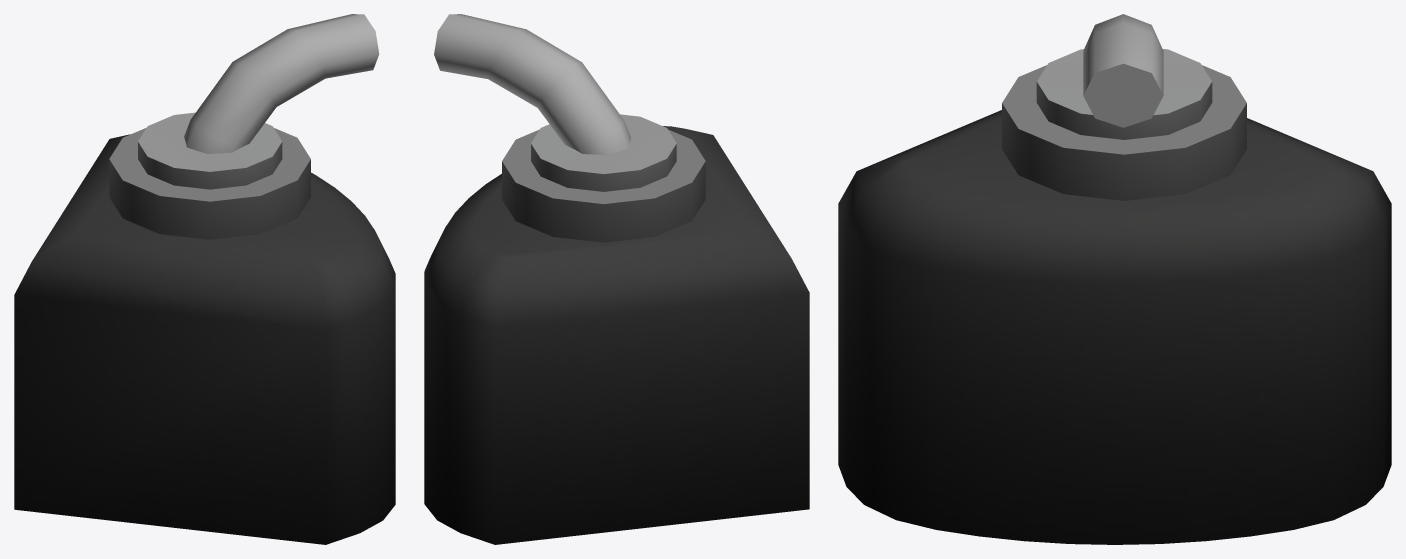
File: model_BurbleFlowerBomb.fbx
3 views of the same model, side by side, from view 1: azimuth 30°, elevation 25°; view 2: azimuth 150°, elevation 25°; view 3: azimuth 270°, elevation 25° (orthographic). The views are drawn at different scales.
Parts seen in each view (by area): view 1: model_BurbleFlowerBomb; view 2: model_BurbleFlowerBomb; view 3: model_BurbleFlowerBomb.
Part boxes in pixels (box(x1,y1,x2,y2)): model_BurbleFlowerBomb: box(14, 14, 395, 544); model_BurbleFlowerBomb: box(424, 14, 809, 544); model_BurbleFlowerBomb: box(838, 14, 1391, 544).
Size of the model in its own units: 45.64 by 50.13 by 50.97.
